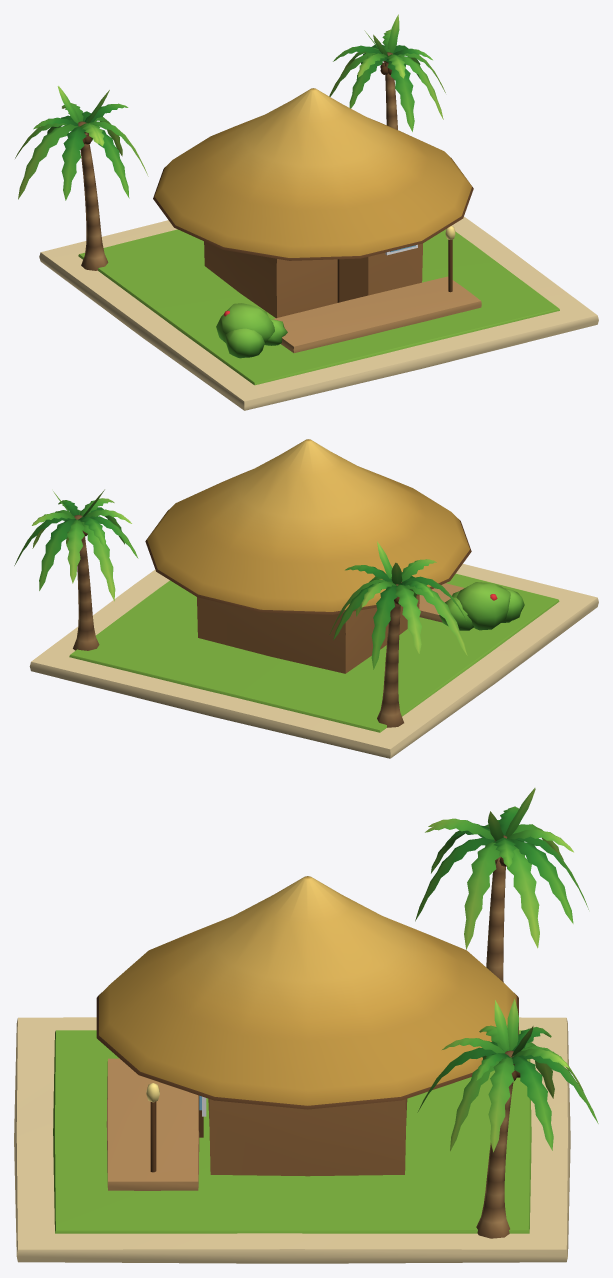
The model's file is Bungalow.obj.
3 renders of one model, top to bottom at view 1: azimuth 30°, elevation 25°; view 2: azimuth 150°, elevation 25°; view 3: azimuth 270°, elevation 25°, orthographic. The views are drawn at different scales.
Visible parts, largest first — view 1: Bungalow; view 2: Bungalow; view 3: Bungalow.
Boxes of the visible parts, x1,y1,x2,y2 form: Bungalow: (15,14,598,410); Bungalow: (14,439,598,758); Bungalow: (14,788,598,1263).
Size of the model in its own units: 4.3 by 1.94 by 3.78.
1 material, 1 textured.
